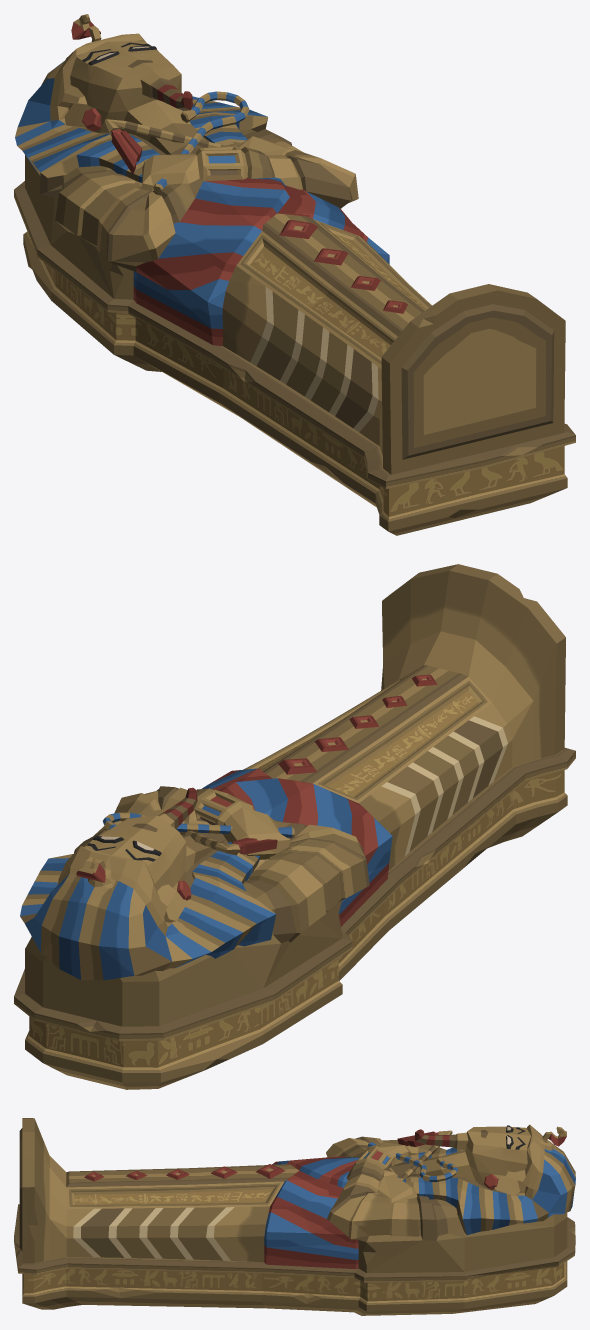
The model's file is SM_Prop_Sarcophagus_01.fbx.
3 renders of one model, top to bottom at view 1: azimuth 30°, elevation 25°; view 2: azimuth 150°, elevation 25°; view 3: azimuth 270°, elevation 25°, orthographic. The views are drawn at different scales.
Visible parts, largest first — view 1: SM_Prop_Sarcophagus_01; view 2: SM_Prop_Sarcophagus_01; view 3: SM_Prop_Sarcophagus_01.
Boxes of the visible parts, x1,y1,x2,y2 form: SM_Prop_Sarcophagus_01: [14, 14, 575, 535]; SM_Prop_Sarcophagus_01: [14, 564, 575, 1089]; SM_Prop_Sarcophagus_01: [14, 1118, 575, 1315].
Size of the model in its own units: 93.19 by 82.46 by 260.
